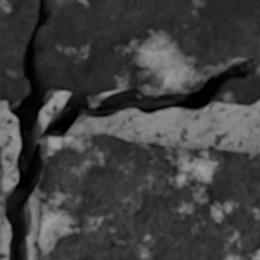brick: (38, 134, 259, 259), (0, 158, 3, 223)
broken_brick: (36, 0, 259, 95), (0, 0, 37, 101), (215, 73, 259, 105)
crack: (2, 0, 259, 259)
